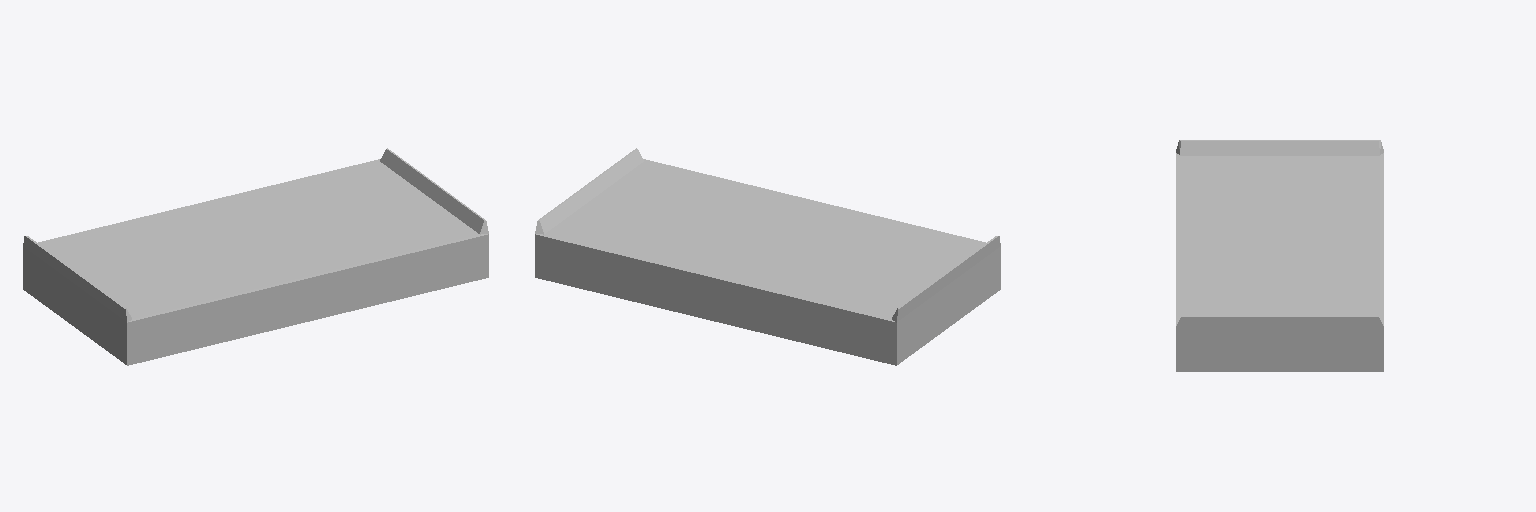
The model's file is 2x4Fluorescent-Recessed.obj.
The picture shows the model from 3 angles: view 1: azimuth 30°, elevation 25°; view 2: azimuth 150°, elevation 25°; view 3: azimuth 270°, elevation 25°; orthographic projection.
Parts seen in each view (by area): view 1: 2x4Fluorescent-Recessed.obj; view 2: 2x4Fluorescent-Recessed.obj; view 3: 2x4Fluorescent-Recessed.obj.
Part boxes in pixels (left/top/right/bottom): 2x4Fluorescent-Recessed.obj: left=23, top=148, right=488, bottom=365; 2x4Fluorescent-Recessed.obj: left=535, top=148, right=1000, bottom=365; 2x4Fluorescent-Recessed.obj: left=1176, top=140, right=1383, bottom=371.
Size of the model in its own units: 1.22 by 0.1778 by 0.6096.